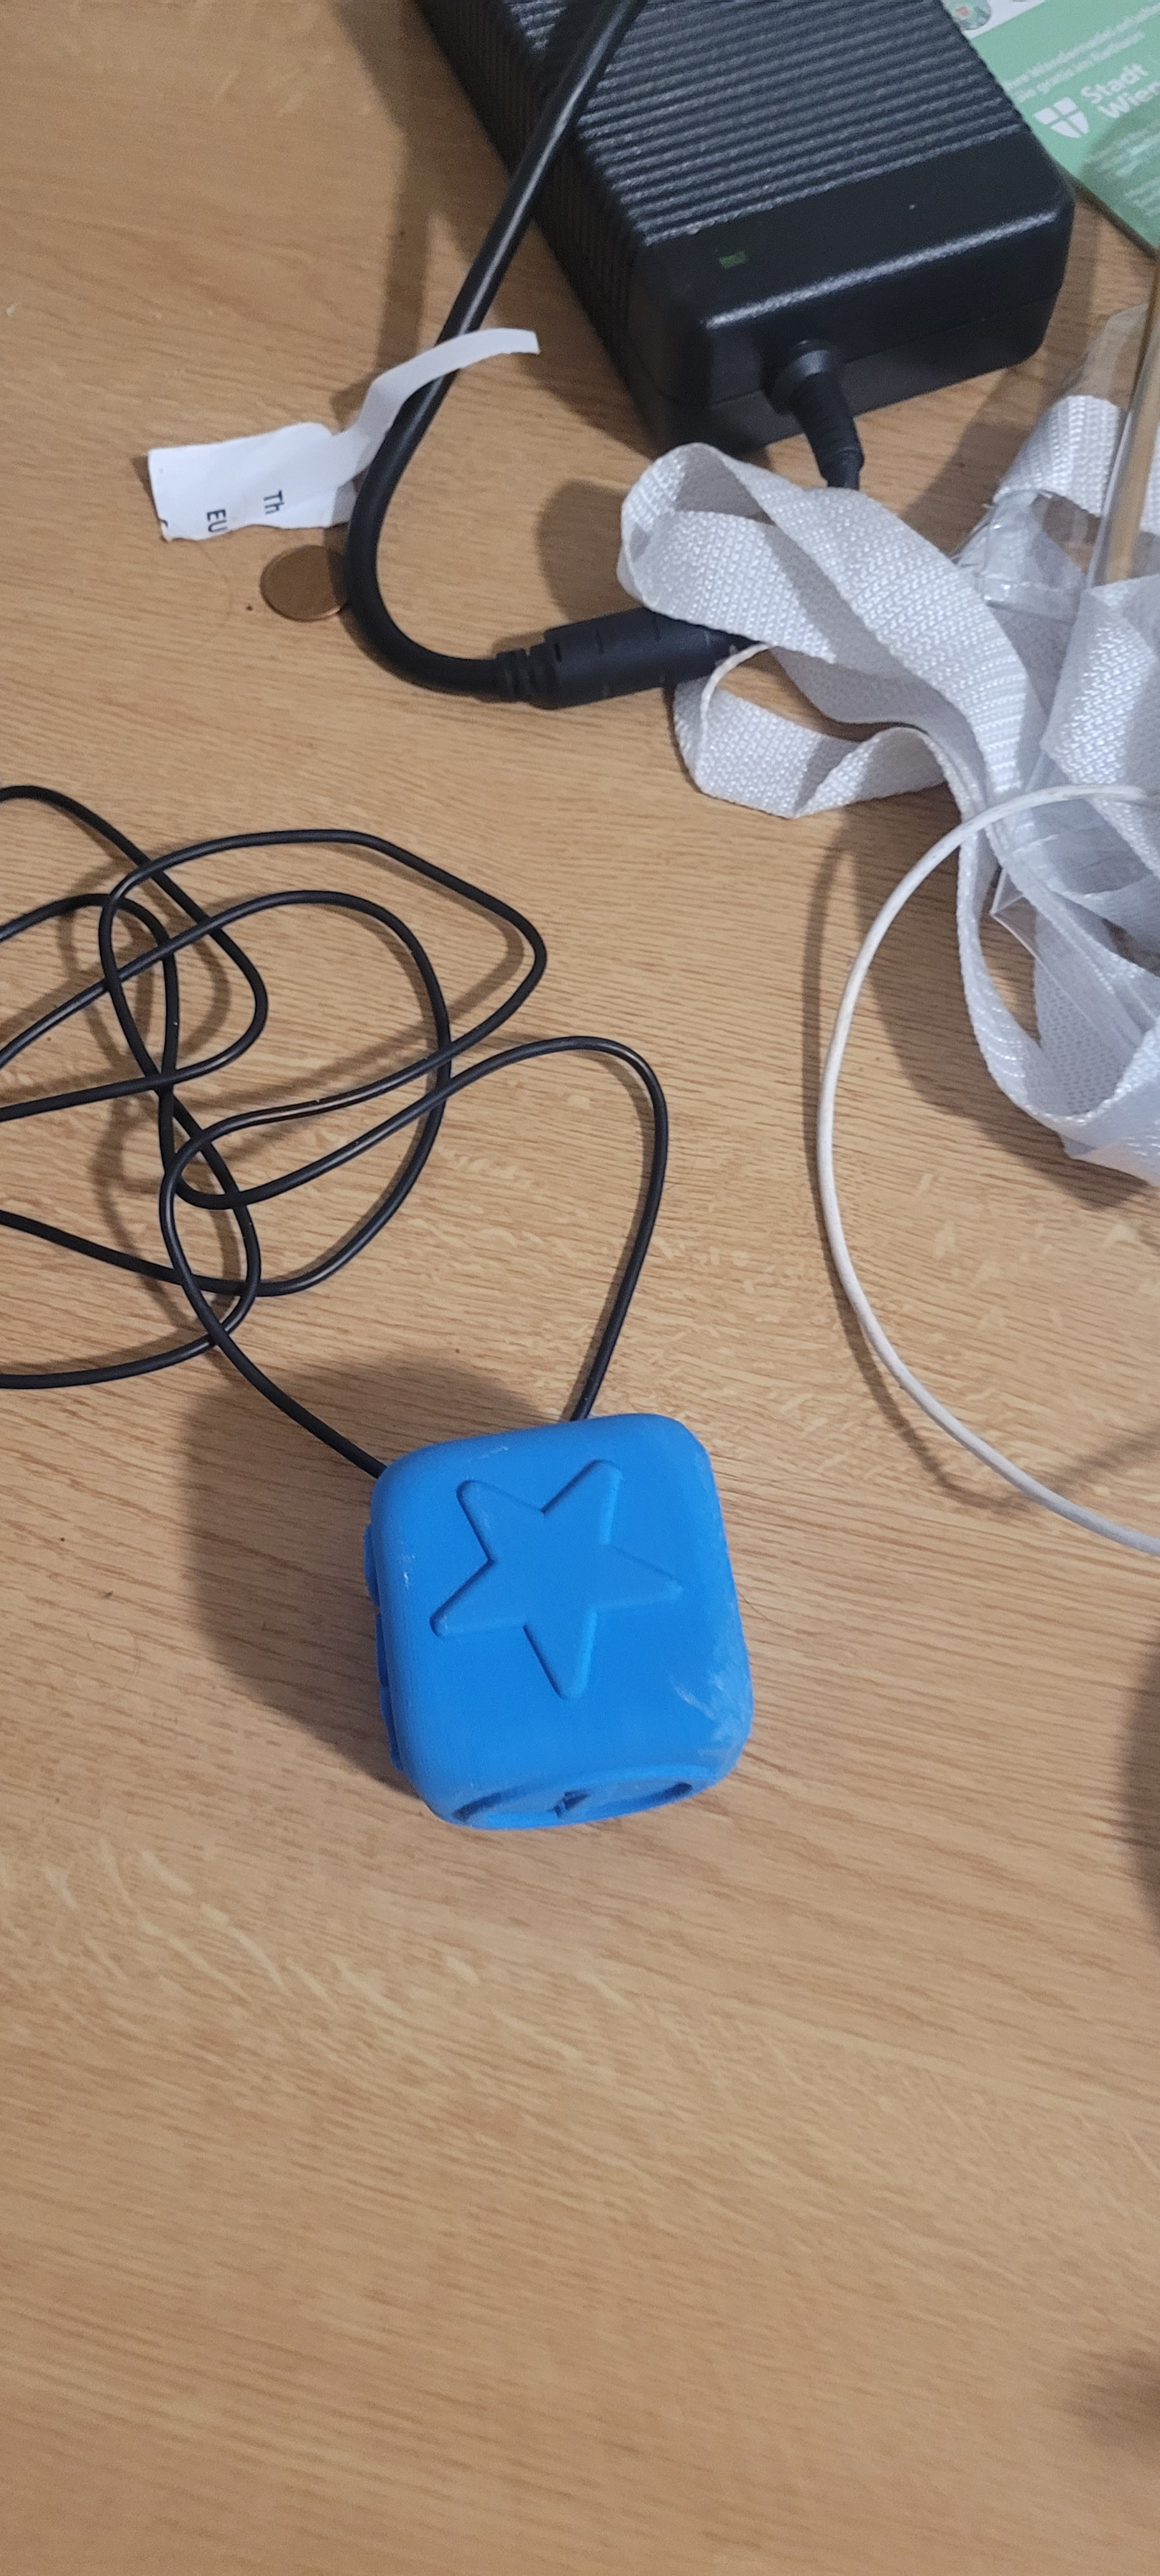Star: (404, 1434, 698, 1751)
